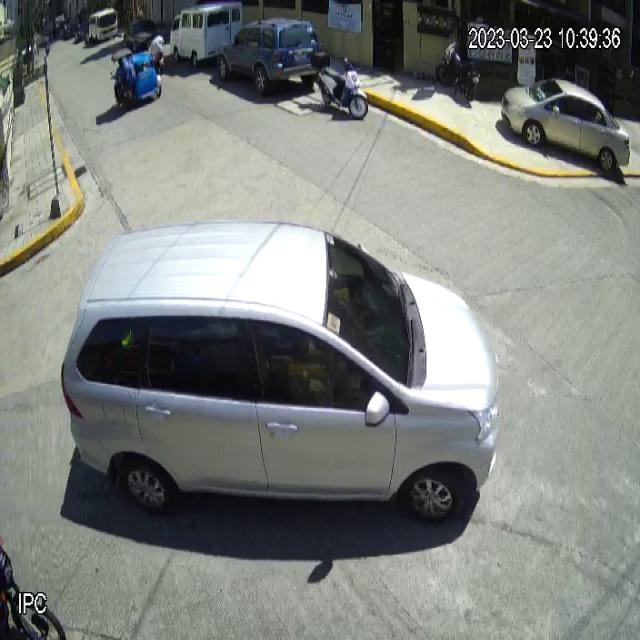Car: (58, 217, 498, 520), (501, 79, 631, 172), (216, 15, 323, 94)
Motorcycle: (312, 51, 368, 120)
Tricycle: (110, 47, 163, 102)
Van: (169, 0, 243, 67)
